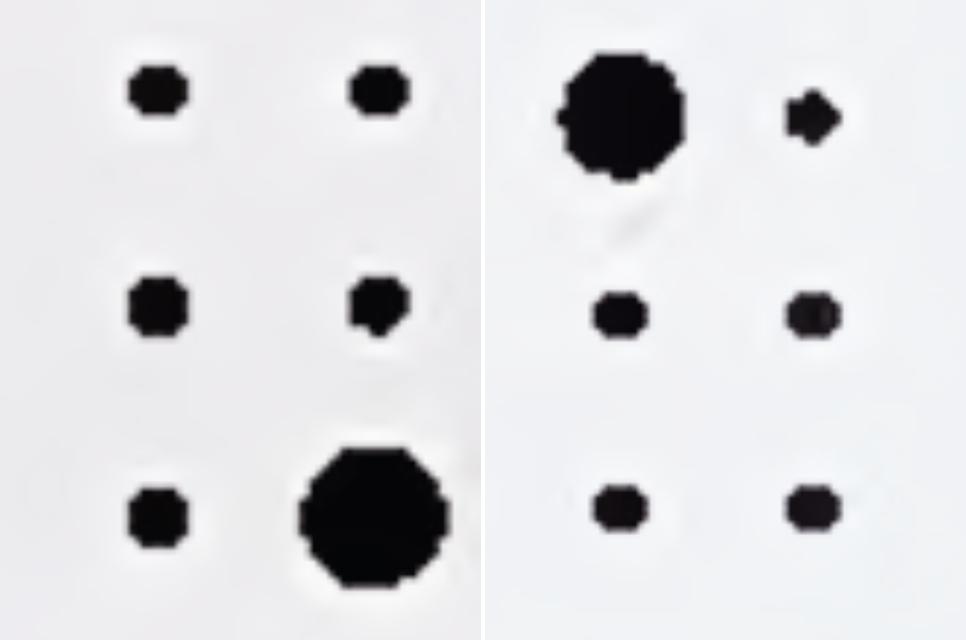A: (553, 53, 843, 534)
capital: (127, 62, 451, 592)
